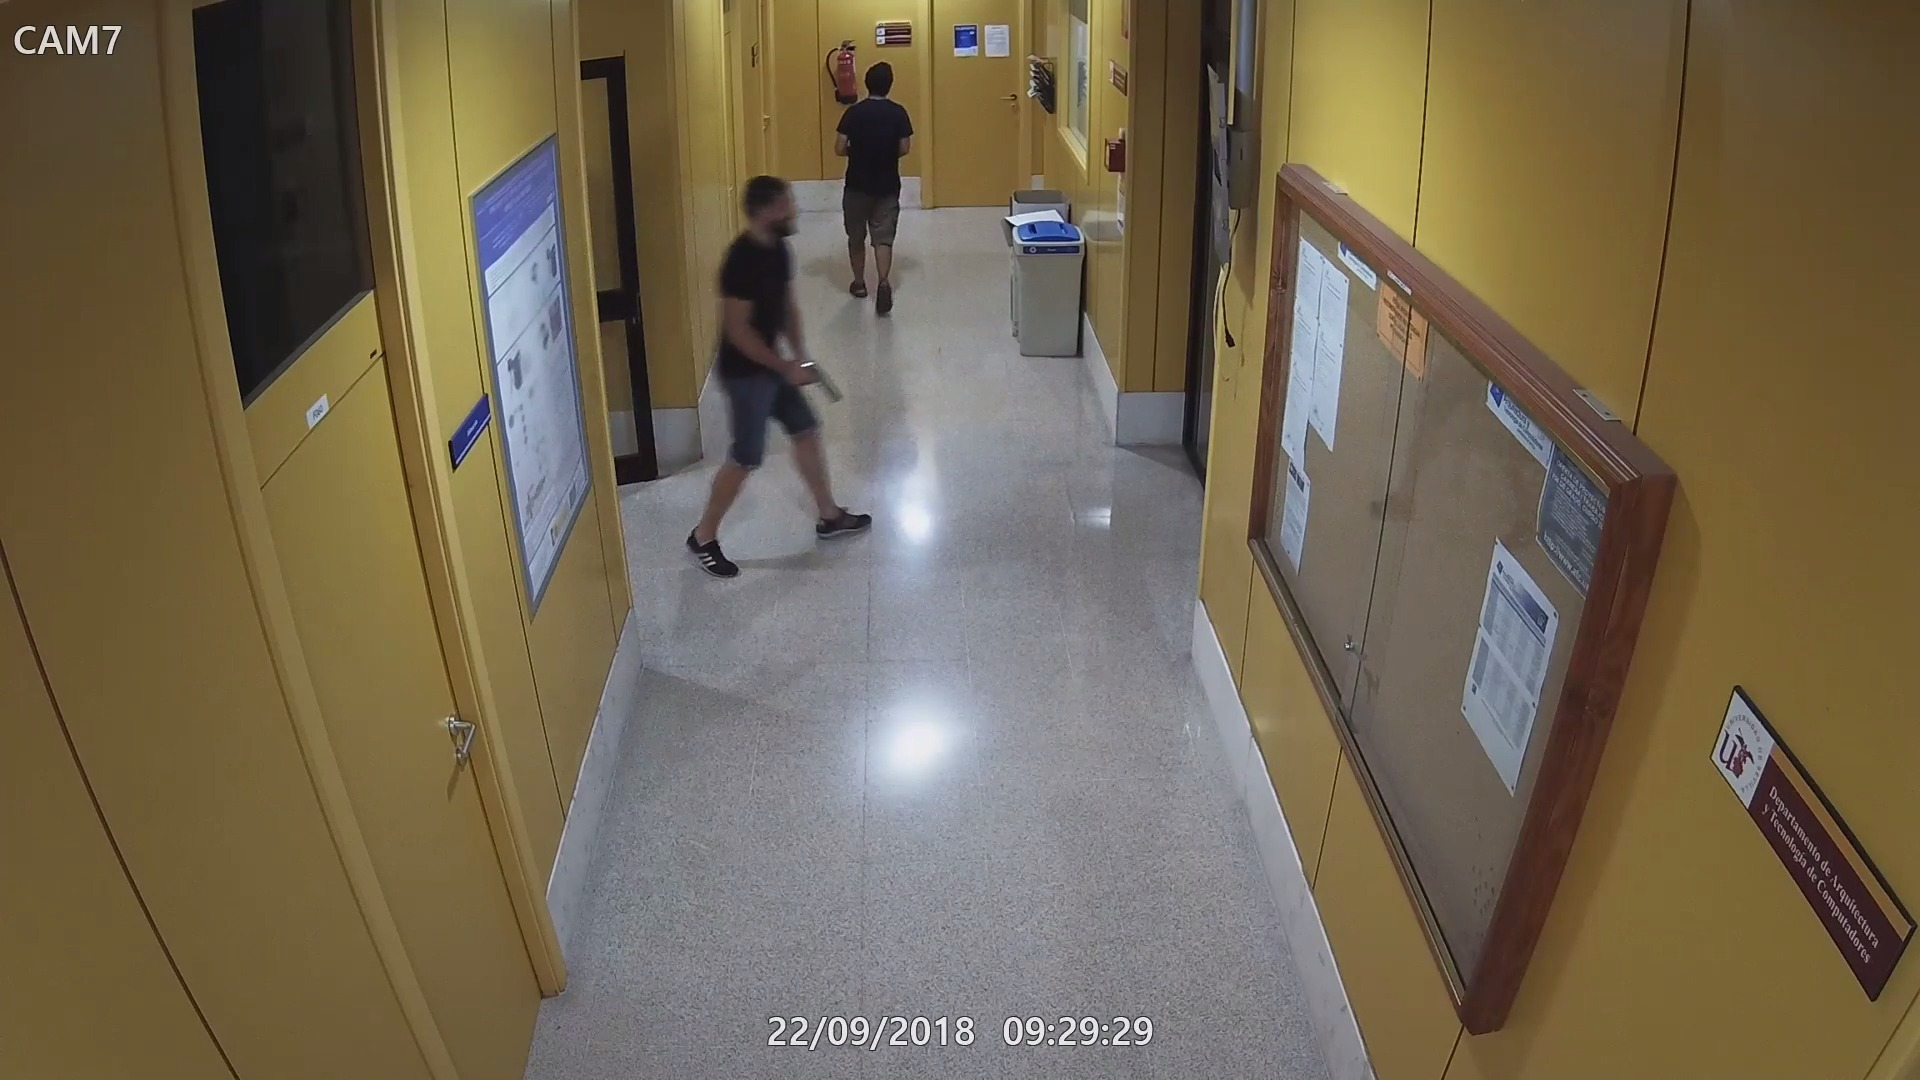Handgun: (785, 359, 847, 404)
